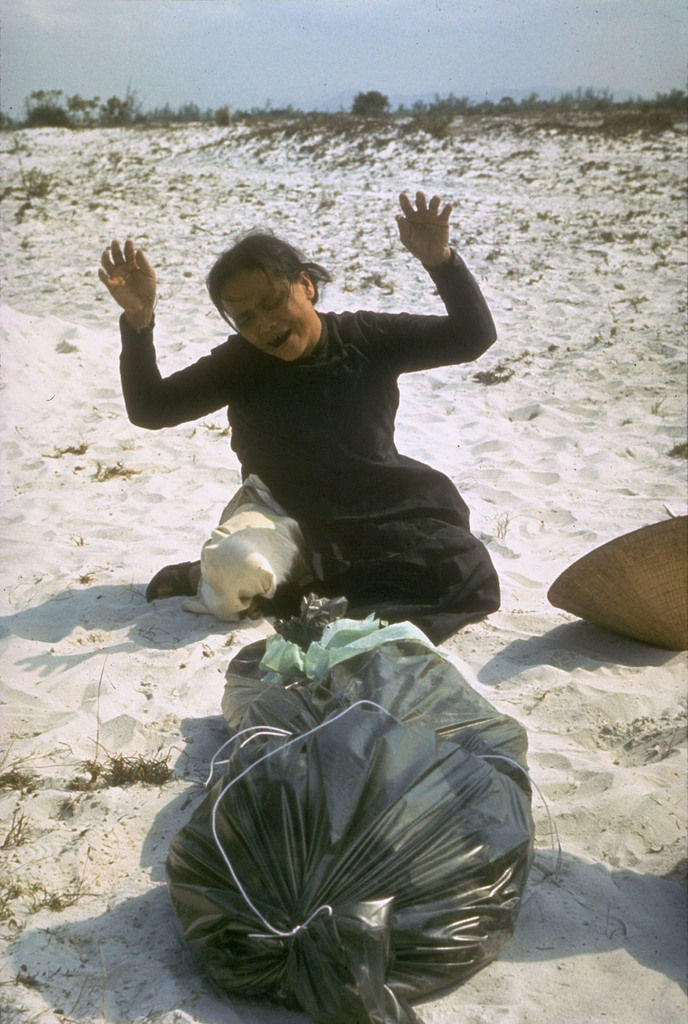Footwear: (148, 541, 211, 599)
